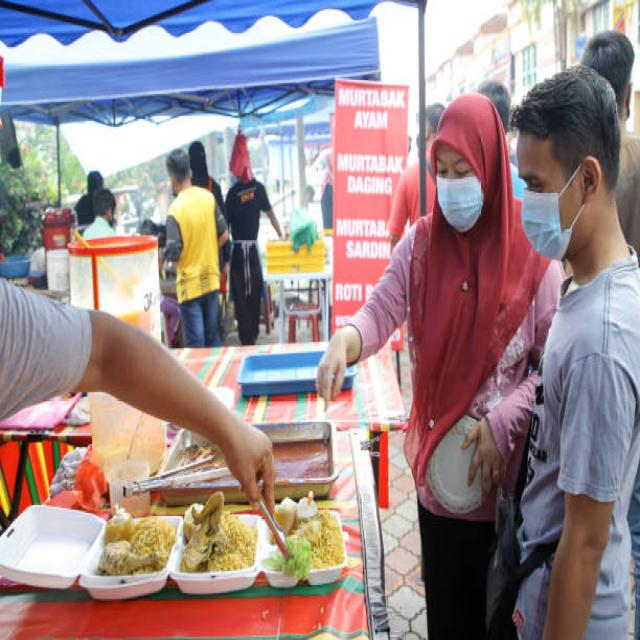Emperan: (0, 287, 418, 640)
